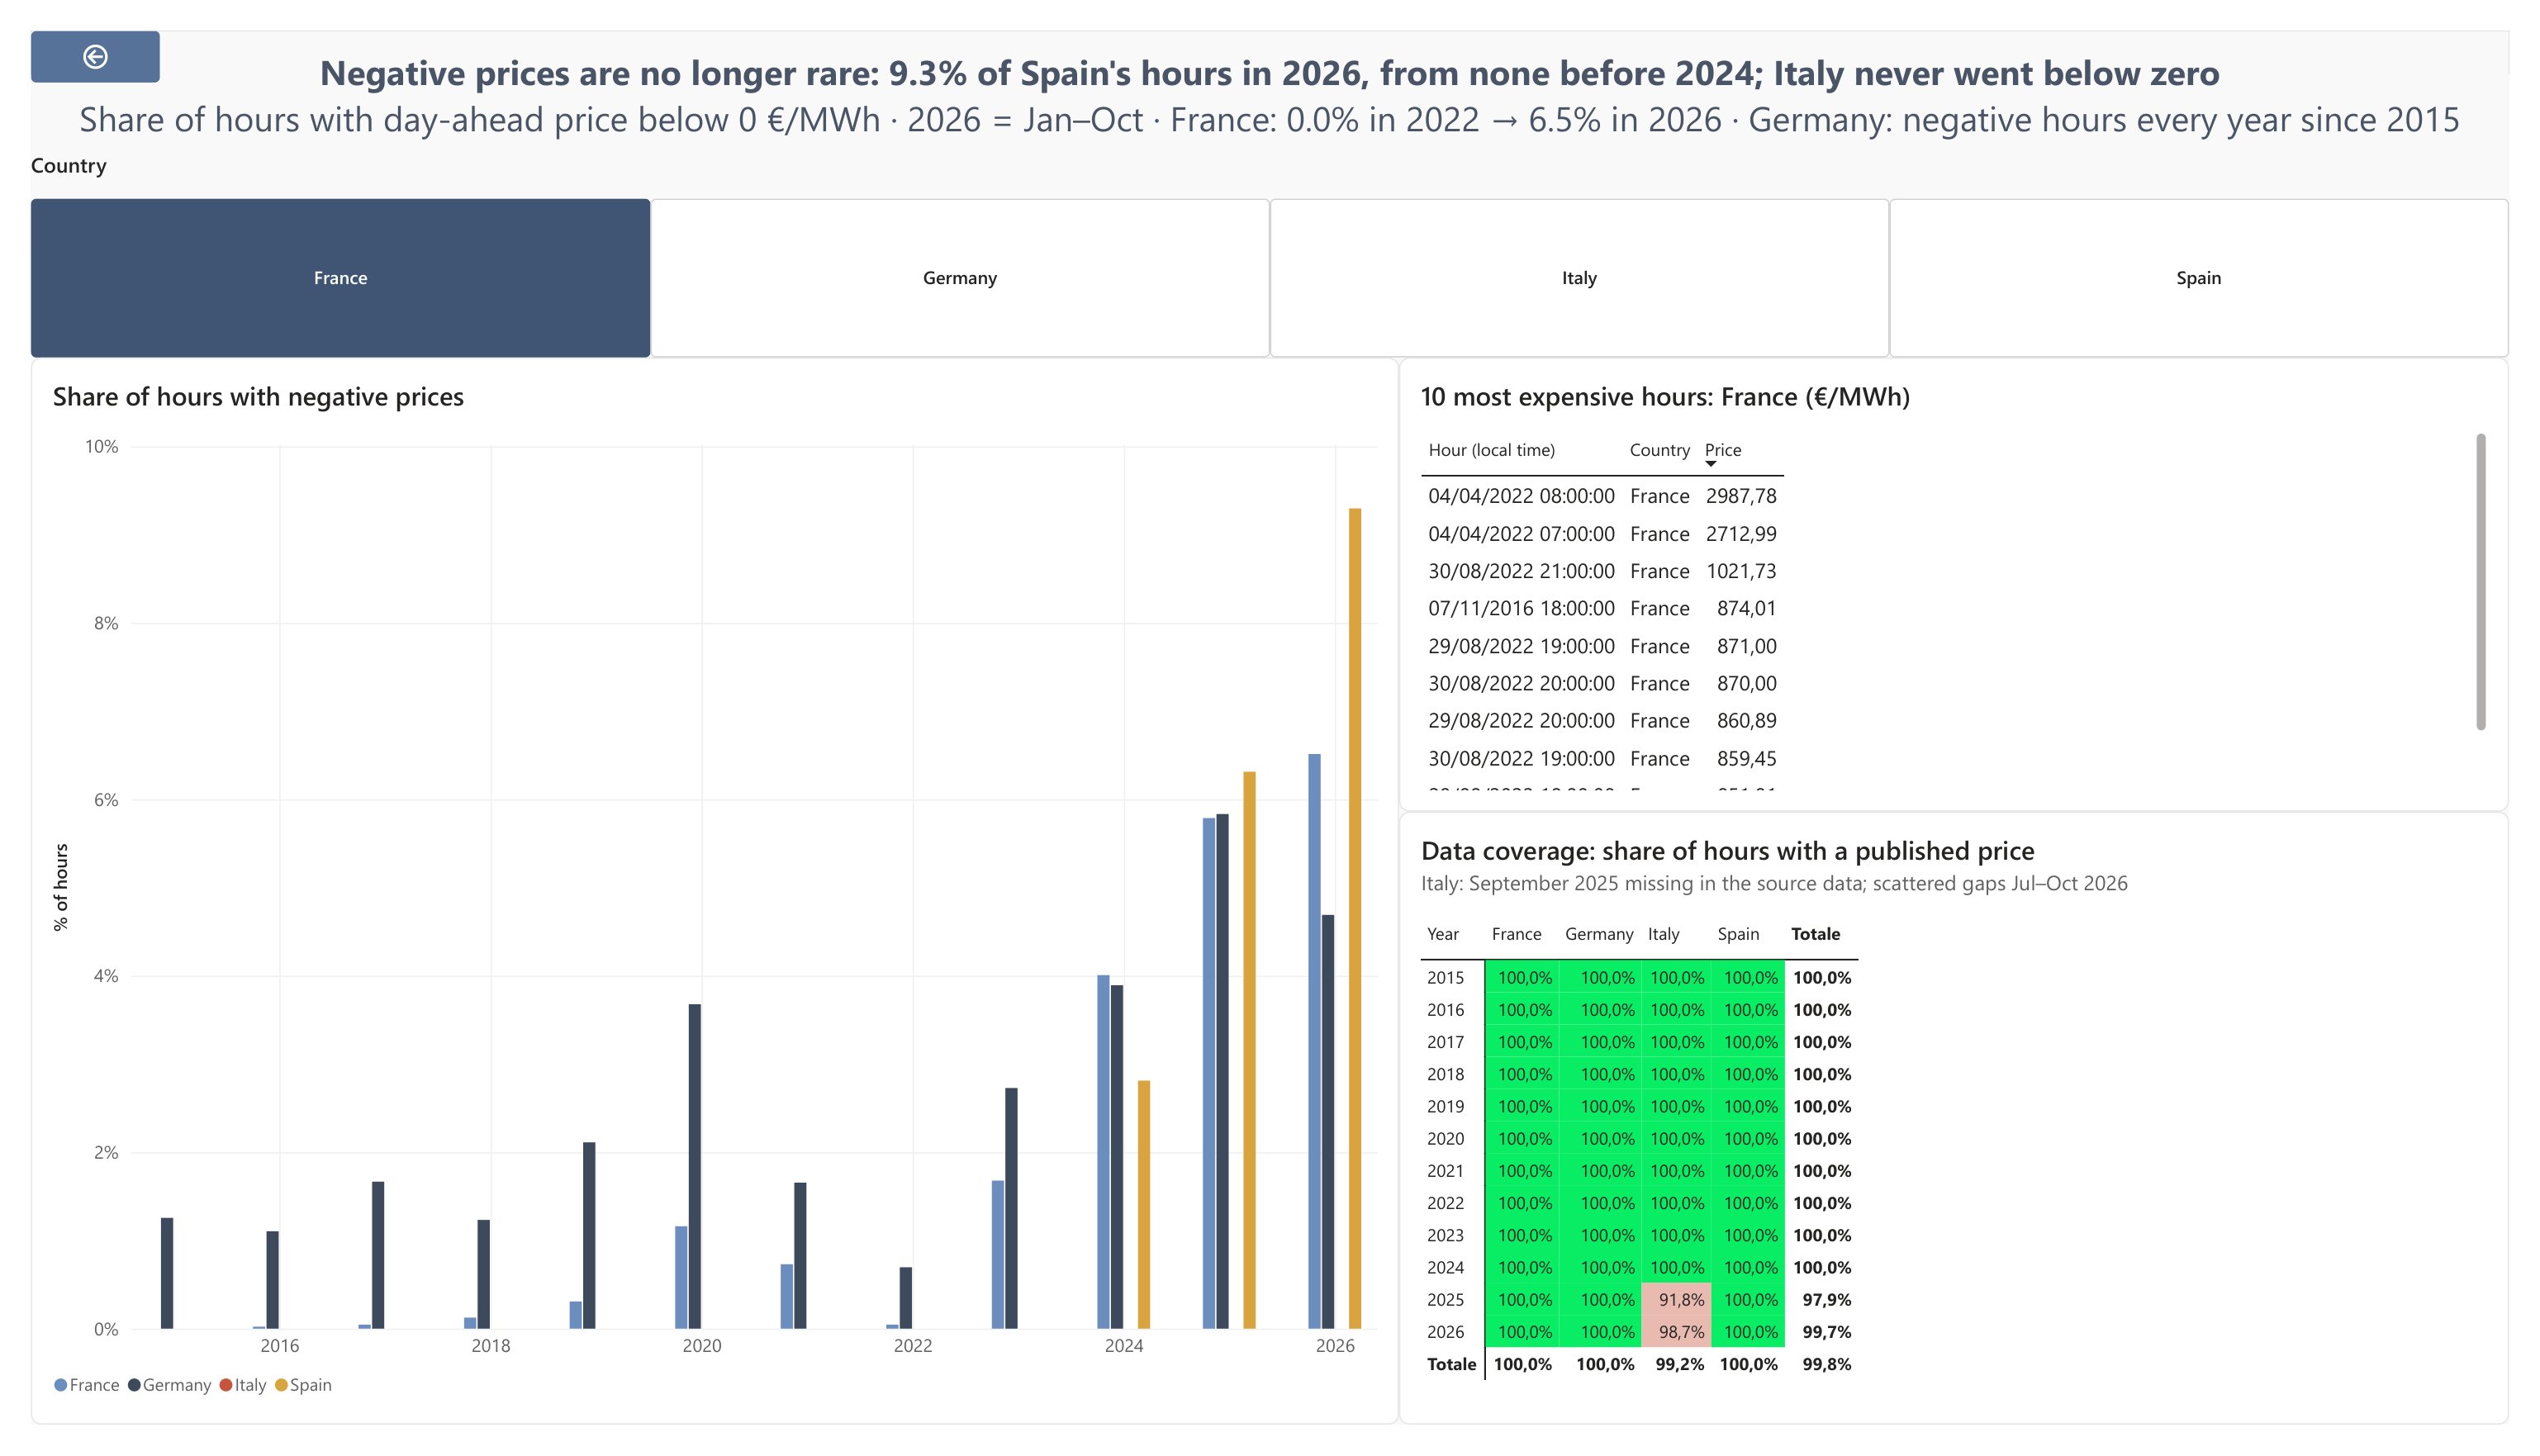

What the dashboard file says about the page in this screenshot:
{"tool":"powerbi","page":{"name":"Extremes & data quality","canvas":[1920,1080],"ordinal":2},"visuals":[{"type":"advancedSlicerVisual","fields":{"Values":["dim_country.Country"]},"box":[0,92.5,1920,160],"z":0},{"type":"clusteredColumnChart","title":"Share of hours with negative prices","fields":{"Category":["dim_date.Year"],"Series":["dim_country.Country"],"Y":["_Measures.Negative Hours %"]},"box":[0,252.5,1060,827.5],"z":1},{"type":"textbox","box":[0,12.5,1920,160],"z":2},{"type":"tableEx","fields":{"Values":["fact_prices.DatetimeLocal","dim_country.Country","_Measures.Max Price"]},"box":[1060,253.3,860,351.7],"z":3},{"type":"pivotTable","title":"Data coverage: share of hours with a published price","fields":{"Columns":["dim_country.Country"],"Rows":["dim_date.Year"],"Values":["_Measures.Coverage %"]},"box":[1060,605,860,475],"z":4},{"type":"actionButton","box":[0,0,100,40],"z":5}]}

Visuals, with their boxes on the page's 1920x1080 design canvas (x1, y1, x2, y2). These are canvas units, not pixel positions in the 2540x1456 screenshot, which may show the page scaled, cropped or inside an application window:
advancedSlicerVisual - dim_country.Country: crop(0, 92, 1920, 252)
"Share of hours with negative prices" clusteredColumnChart: crop(0, 252, 1060, 1080)
textbox: crop(0, 12, 1920, 172)
tableEx - fact_prices.DatetimeLocal x dim_country.Country: crop(1060, 253, 1920, 605)
"Data coverage: share of hours with a published price" pivotTable: crop(1060, 605, 1920, 1080)
actionButton: crop(0, 0, 100, 40)
